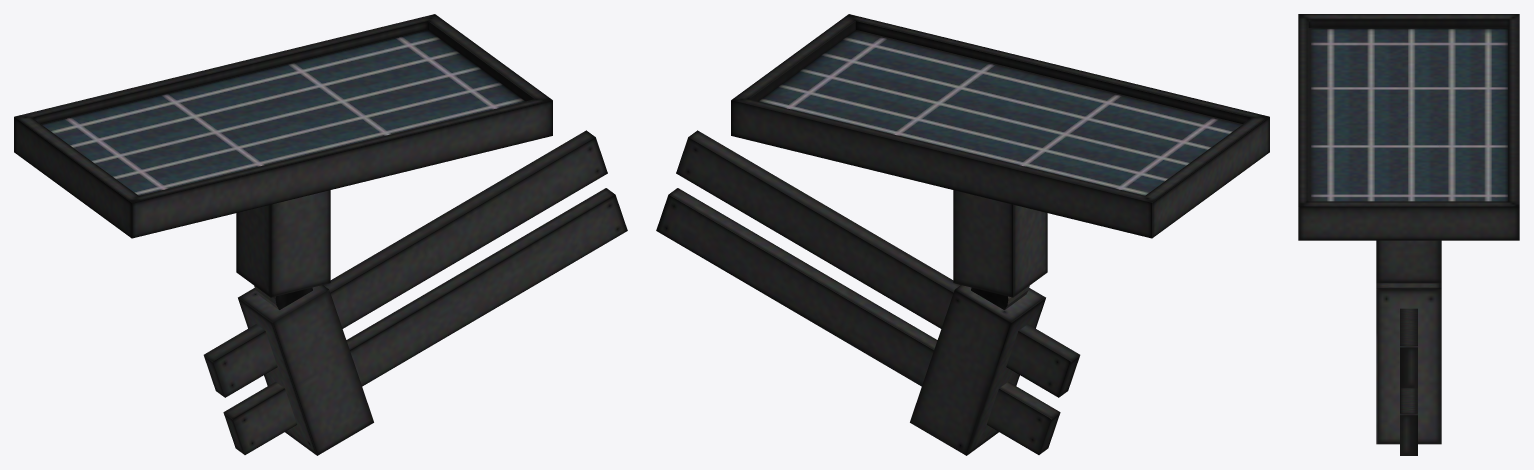
Rendered from spaceDebris1.obj.
3 renders of one model, left to right at view 1: azimuth 30°, elevation 25°; view 2: azimuth 150°, elevation 25°; view 3: azimuth 270°, elevation 25°, orthographic. The views are drawn at different scales.
Bounding box in the file's own units: 3.63 × 2.14 × 1.35.
Materials: 1 (1 with a texture image).
